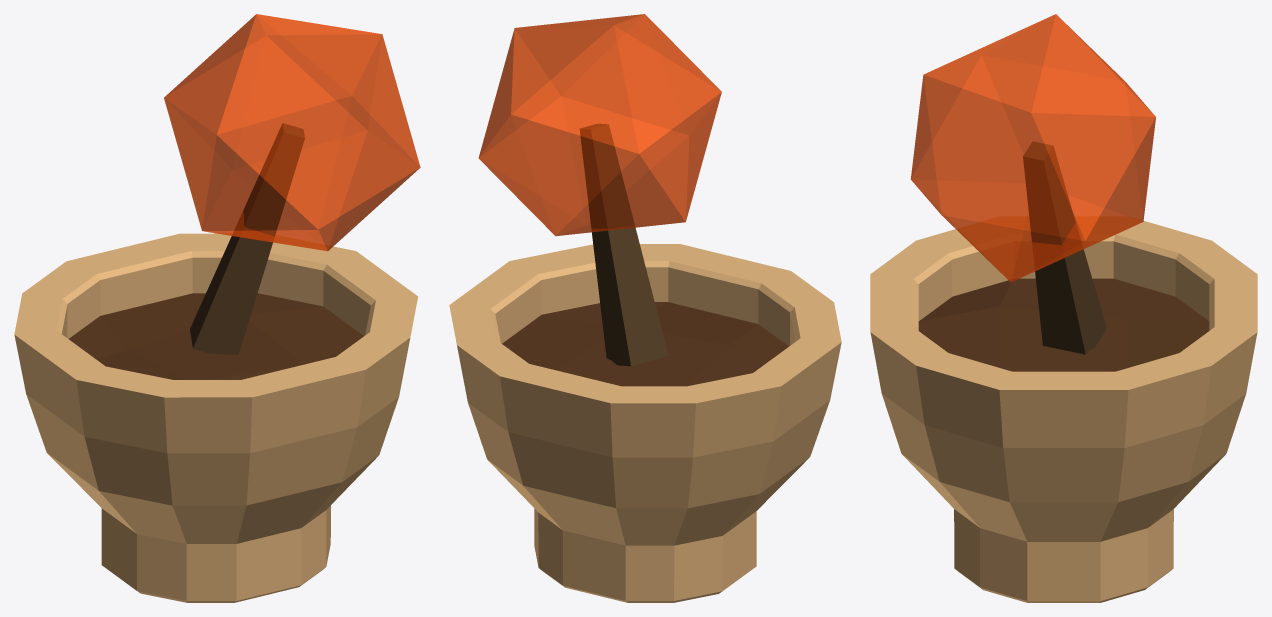
The model's file is pot1.glb.
3 views of the same model, side by side, from view 1: azimuth 30°, elevation 25°; view 2: azimuth 150°, elevation 25°; view 3: azimuth 270°, elevation 25° (orthographic). The views are drawn at different scales.
Parts seen in each view (by area): view 1: Cube, Icosphere, Cube.001; view 2: Cube, Icosphere, Cube.001; view 3: Cube, Icosphere, Cube.001.
Part boxes in pixels (x1,y1,x2,y2): Cube: (14, 233, 417, 602); Icosphere: (164, 14, 420, 251); Cube.001: (190, 123, 304, 354); Cube: (449, 244, 841, 602); Icosphere: (478, 14, 721, 236); Cube.001: (580, 124, 668, 366); Cube: (870, 221, 1257, 602); Icosphere: (910, 14, 1155, 282); Cube.001: (1023, 141, 1106, 354).
Size of the model in its own units: 2.95 by 4.44 by 2.78.
